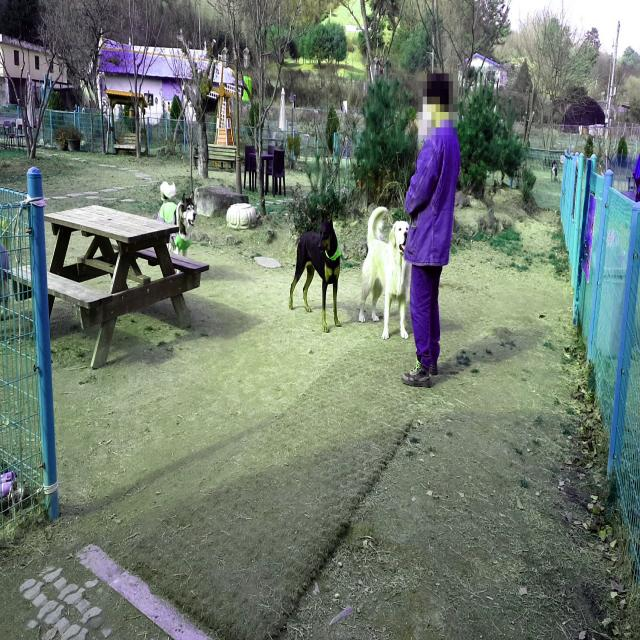Dog: (155, 182, 196, 272)
Unleashed_Dog: (289, 207, 454, 339), (359, 201, 450, 341)
